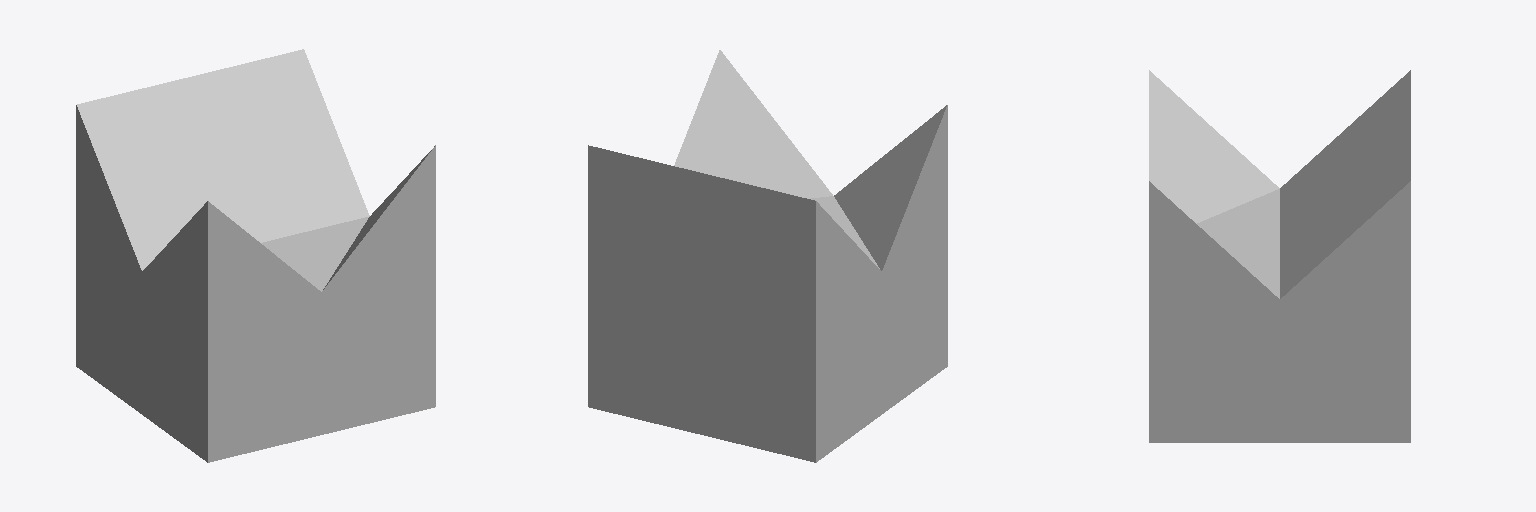
3 renders of one model, left to right at view 1: azimuth 30°, elevation 25°; view 2: azimuth 150°, elevation 25°; view 3: azimuth 270°, elevation 25°, orthographic.
Parts seen in each view (by area): view 1: cube2; view 2: cube2; view 3: cube2.
Boxes of the visible parts, x1=… form: cube2: x1=76, y1=49, x2=435, y2=462; cube2: x1=588, y1=50, x2=947, y2=462; cube2: x1=1149, y1=70, x2=1410, y2=442.
Size of the model in its own units: 1 by 1.1 by 1.